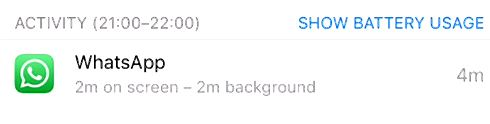activity: (8, 10, 223, 39)
app: (8, 45, 489, 106)
